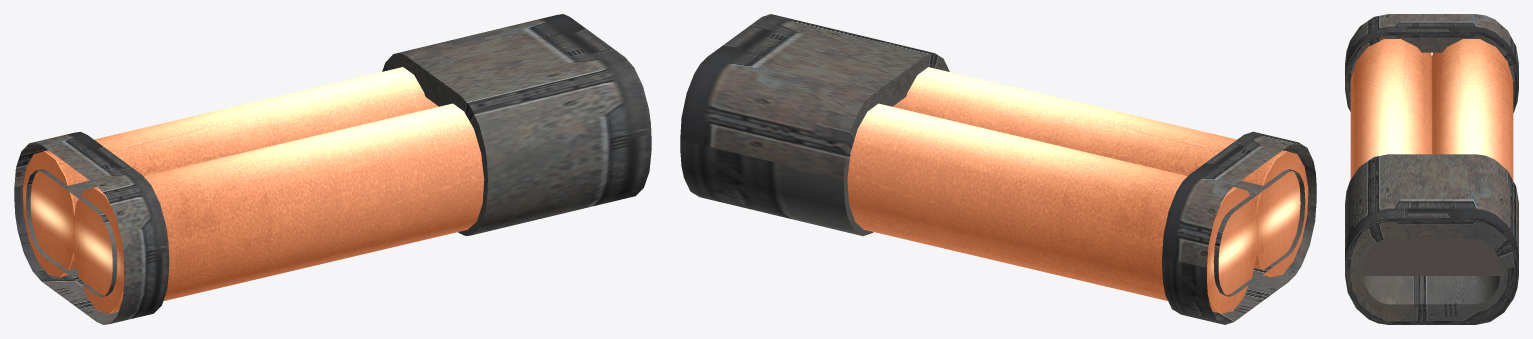
Rendered from heat-pipe-ending-left.glb.
3 views of the same model, side by side, from view 1: azimuth 30°, elevation 25°; view 2: azimuth 150°, elevation 25°; view 3: azimuth 270°, elevation 25° (orthographic). The views are drawn at different scales.
Visible parts, largest first — view 1: heat-pipe-ending-left; view 2: heat-pipe-ending-left; view 3: heat-pipe-ending-left.
Boxes of the visible parts, <box> form: heat-pipe-ending-left: <box>14,14,651,324</box>; heat-pipe-ending-left: <box>680,14,1316,324</box>; heat-pipe-ending-left: <box>1345,14,1518,324</box>.
Size of the model in its own units: 0.86 by 0.2136 by 0.3102.
Materials: 2 (2 with a texture image).
